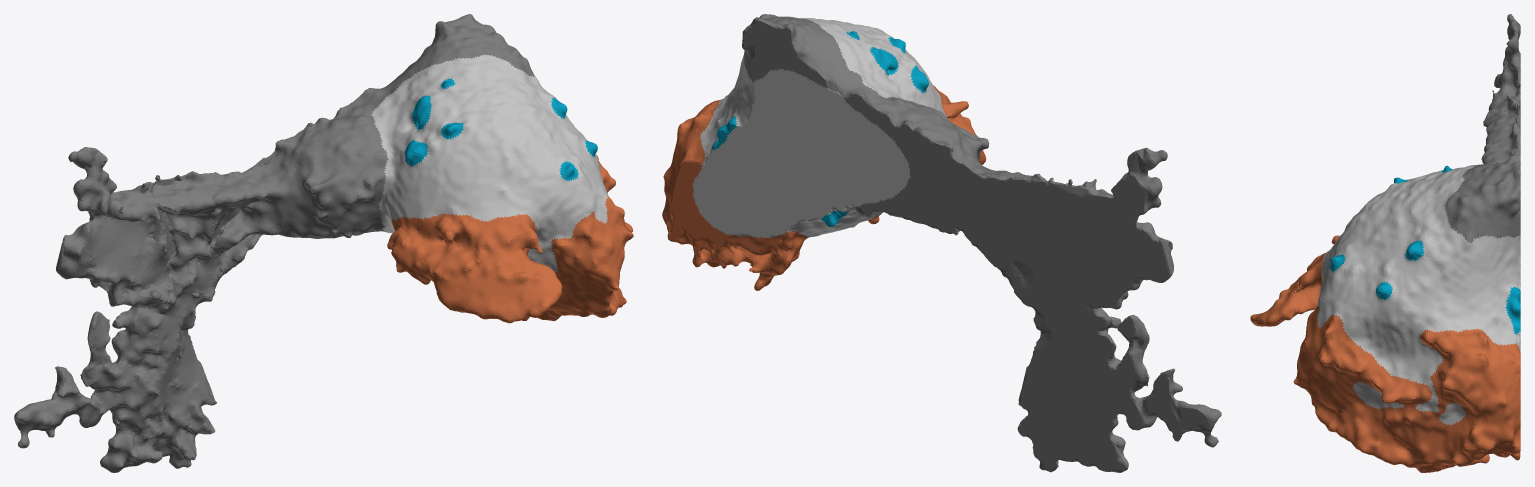
The picture shows the model from 3 angles, left to right: view 1: azimuth 30°, elevation 25°; view 2: azimuth 150°, elevation 25°; view 3: azimuth 270°, elevation 25°; orthographic projection.
Size of the model in its own units: 232 by 149 by 96.94.
